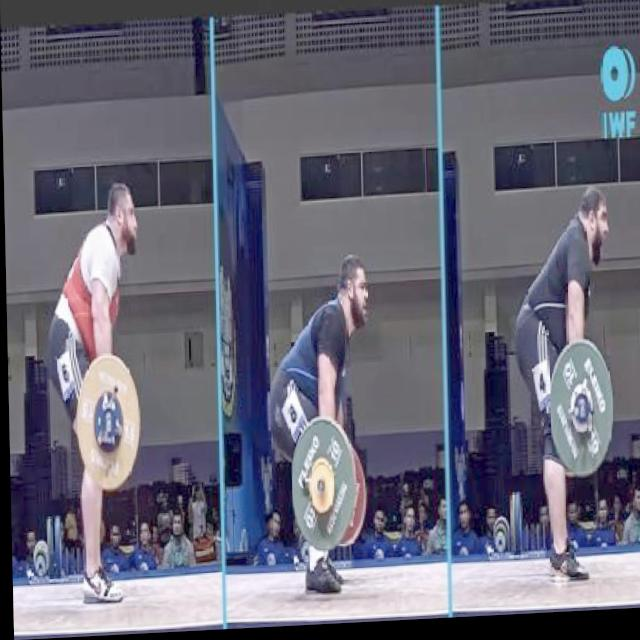barbell: (538, 341, 618, 489), (70, 346, 143, 497), (285, 417, 359, 559)
